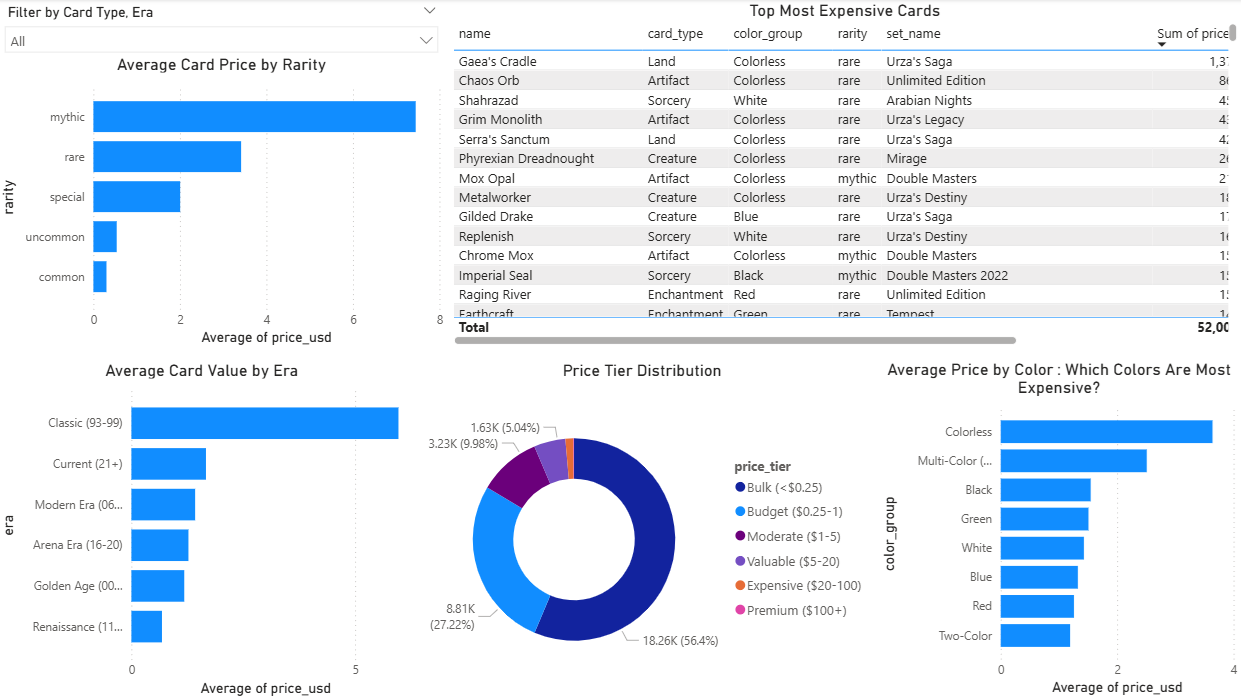

What the dashboard file says about the page in this screenshot:
{"tool":"powerbi","page":{"name":"Market Value","canvas":[1280,720],"ordinal":2},"visuals":[{"type":"clusteredBarChart","title":"Average Card Price by Rarity","fields":{"Category":["mtg_powerbi_ready.rarity"],"Y":["Avg(mtg_powerbi_ready.price_usd)"]},"box":[0,56.6,465.2,304],"z":0},{"type":"tableEx","title":"Top Most Expensive Cards","fields":{"Values":["mtg_powerbi_ready.name","mtg_powerbi_ready.card_type","mtg_powerbi_ready.color_group","mtg_powerbi_ready.rarity","mtg_powerbi_ready.set_name","Sum(mtg_powerbi_ready.price_usd)","Sum(mtg_powerbi_ready.price_usd_foil)","Sum(mtg_powerbi_ready.release_year)"]},"box":[465.2,1.2,814.8,359.4],"z":1000},{"type":"barChart","title":"Average Card Value by Era","fields":{"Category":["mtg_powerbi_ready.era"],"Y":["Avg(mtg_powerbi_ready.price_usd)"]},"box":[0,370.5,424.6,349.5],"z":2000},{"type":"donutChart","title":"Price Tier Distribution","fields":{"Category":["mtg_powerbi_ready.price_tier"],"Y":["Count(mtg_powerbi_ready.name)"]},"box":[424.6,370.5,478.8,349.5],"z":3000},{"type":"clusteredBarChart","title":"Average Price by Color : Which Colors Are Most Expensive?","fields":{"Category":["mtg_powerbi_ready.color_group"],"Y":["Avg(mtg_powerbi_ready.price_usd)"]},"box":[904,370,376,350],"z":4000},{"type":"slicer","fields":{"Values":["mtg_powerbi_ready.card_type","mtg_powerbi_ready.era"]},"box":[0,0,465.2,56.6],"z":5000}]}

Visuals, with their boxes in screenshot pixels (x1, y1, x2, y2), scaled from the page's 1280x720 canvas onto the 1241x699 screenshot:
"Average Card Price by Rarity" clusteredBarChart: (0, 55, 451, 350)
"Top Most Expensive Cards" tableEx: (451, 1, 1240, 350)
"Average Card Value by Era" barChart: (0, 360, 412, 698)
"Price Tier Distribution" donutChart: (412, 360, 876, 698)
"Average Price by Color : Which Colors Are Most Expensive?" clusteredBarChart: (876, 359, 1240, 698)
slicer - mtg_powerbi_ready.card_type x mtg_powerbi_ready.era: (0, 0, 451, 55)
